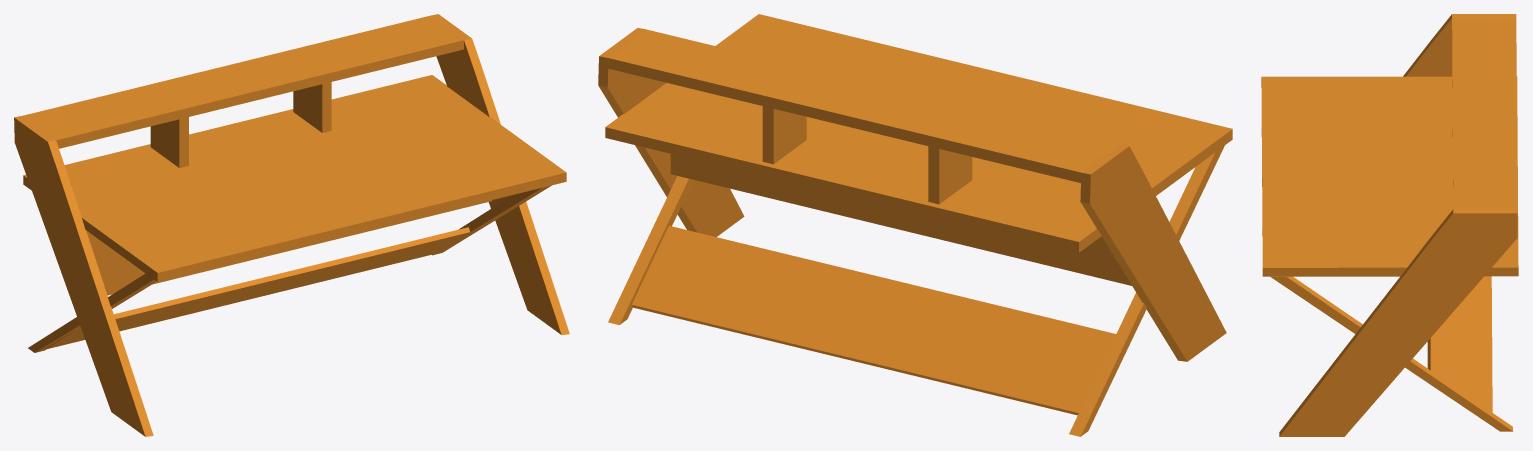
File: BUREAU.gltf
3 views of the same model, side by side, from view 1: azimuth 30°, elevation 25°; view 2: azimuth 150°, elevation 25°; view 3: azimuth 270°, elevation 25° (orthographic). The views are drawn at different scales.
Parts seen in each view (by area): view 1: Cube.022; view 2: Cube.022; view 3: Cube.022.
Part boxes in pixels (x1=…): Cube.022: x1=14, y1=14, x2=569, y2=436; Cube.022: x1=598, y1=14, x2=1232, y2=436; Cube.022: x1=1261, y1=14, x2=1518, y2=436.
Bounding box in the file's own units: 0.8997 × 0.4612 × 0.4848.
